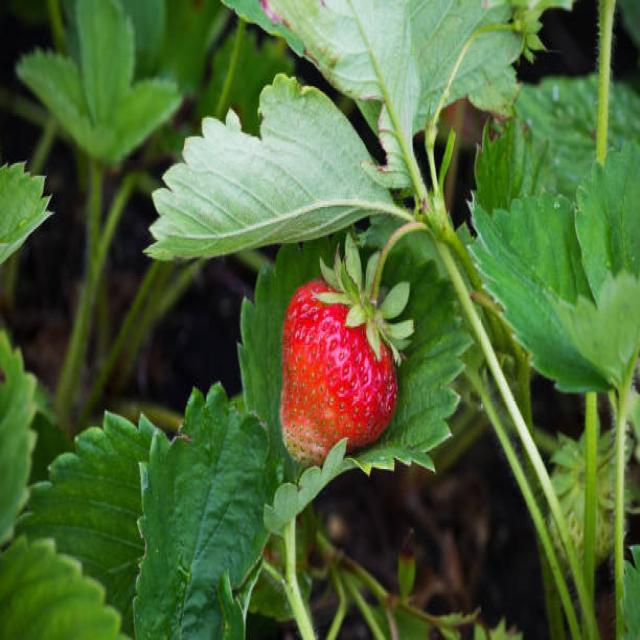Healthy Fruit: (281, 285, 399, 466)
